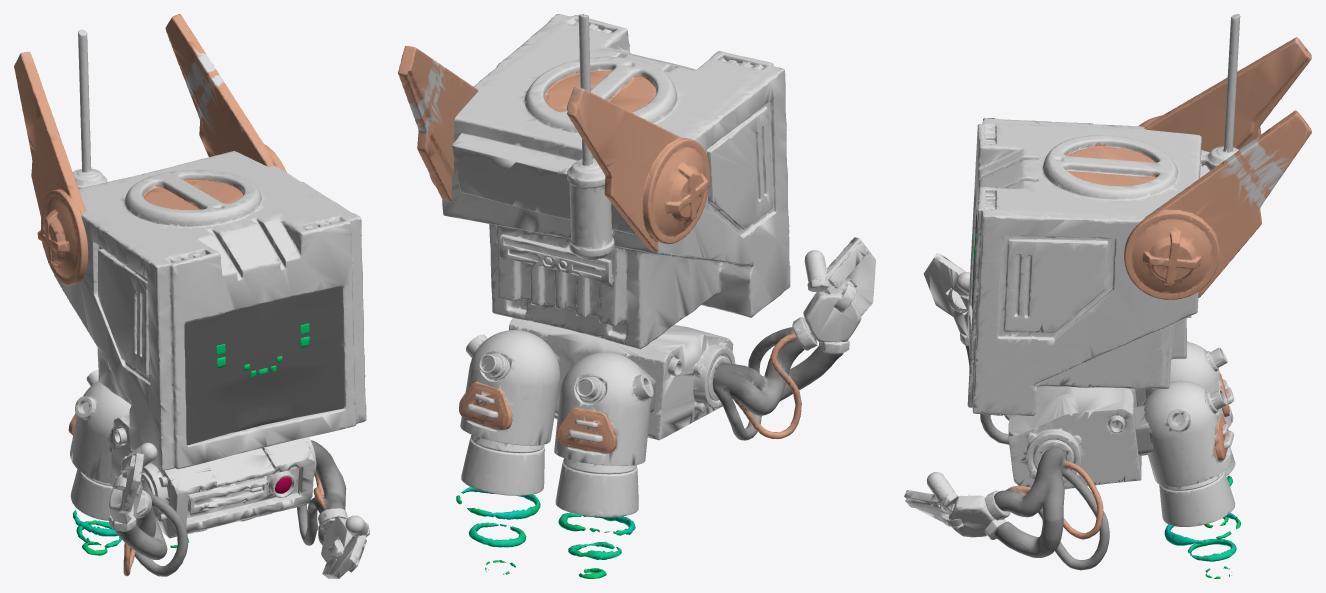
File: drone.glb
3 views of the same model, side by side, from view 1: azimuth 30°, elevation 25°; view 2: azimuth 150°, elevation 25°; view 3: azimuth 270°, elevation 25° (orthographic). The views are drawn at different scales.
Visible parts, largest first — view 1: body__0; view 2: body__0; view 3: body__0.
Part boxes in pixels (bbox=[...]): body__0: bbox=[14, 14, 369, 578]; body__0: bbox=[398, 14, 875, 578]; body__0: bbox=[904, 14, 1311, 578].
Size of the model in its own units: 1.05 by 1.88 by 1.34.
